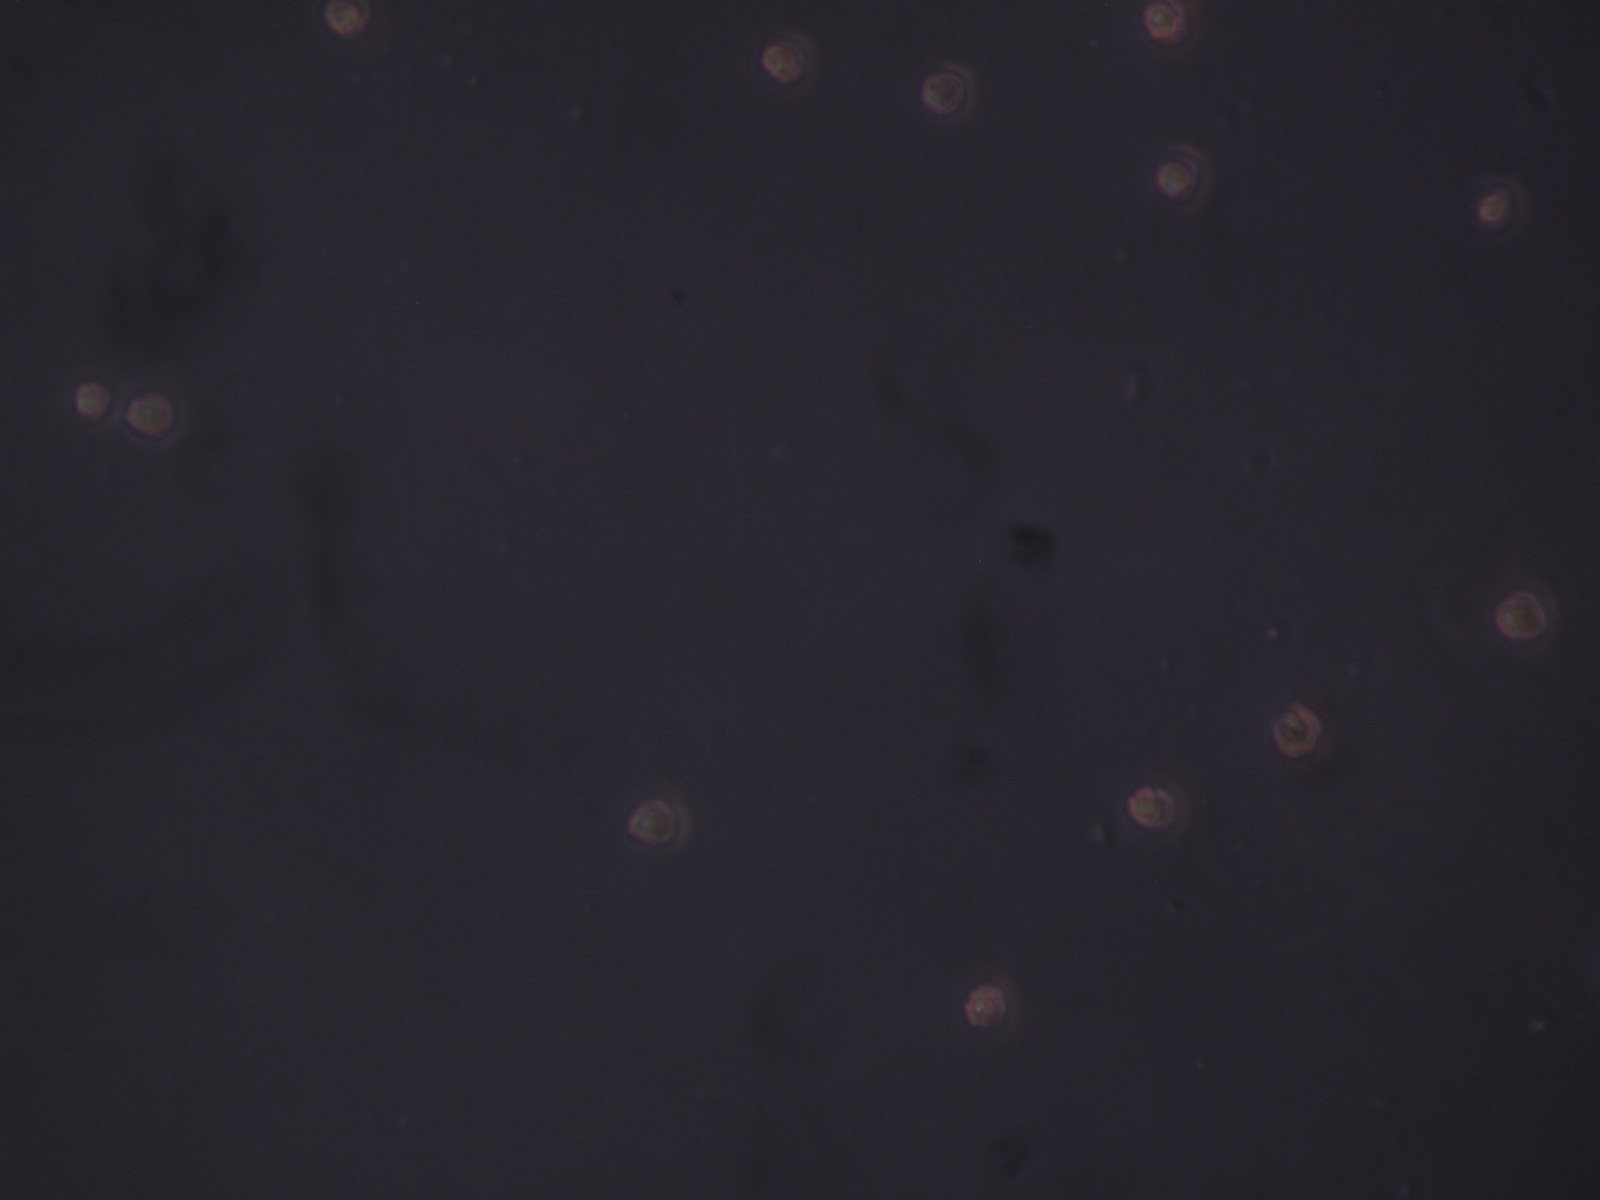hemo: (627, 789, 690, 850), (762, 26, 819, 92), (923, 61, 978, 125), (1494, 587, 1551, 644), (123, 384, 176, 437), (1272, 703, 1319, 755), (1128, 784, 1174, 831), (74, 379, 118, 424), (968, 983, 1008, 1030), (1138, 1, 1180, 42), (1157, 154, 1196, 198), (326, 1, 370, 37), (1477, 190, 1508, 223)
